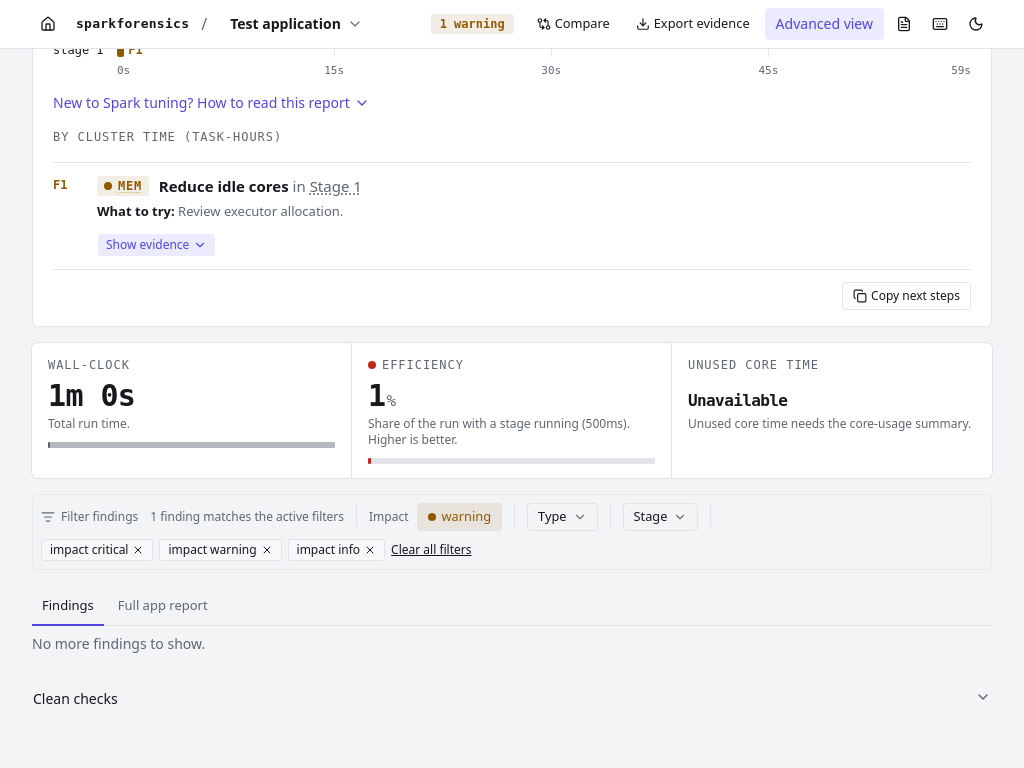
Test: Strict Mode registration probing preserves a Reference route through committed open
(page scrolled)
Click the tab "Full app report" at [163, 606], box [108,586,218,626]
(page scrolled)
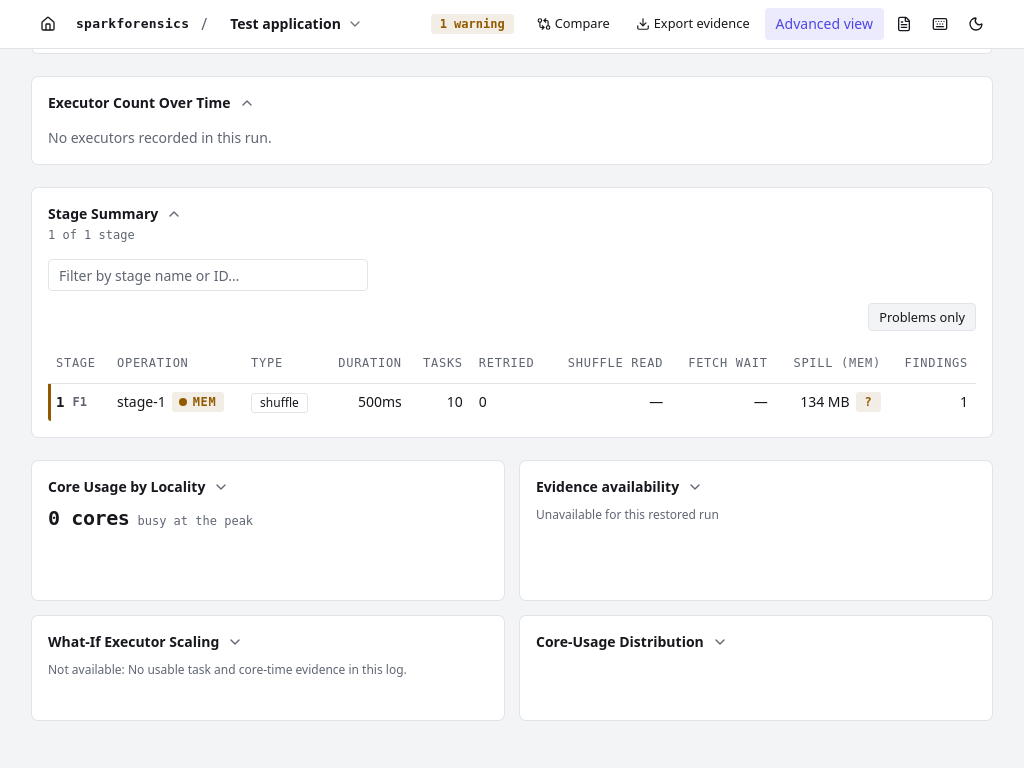
Click the button with aria-label "Investigate memory utilization in Stage 1" at [198, 402], box [172,392,224,412]
(page scrolled)
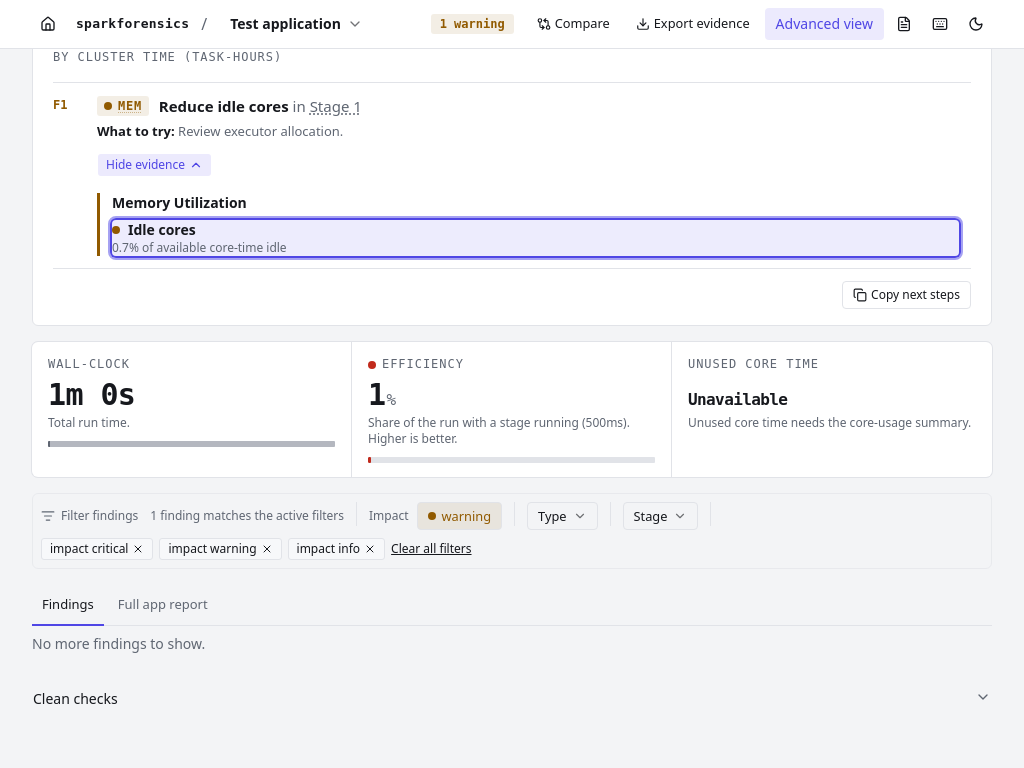
Result: the heading "Memory Utilization" is shown at [112,193,247,212]
